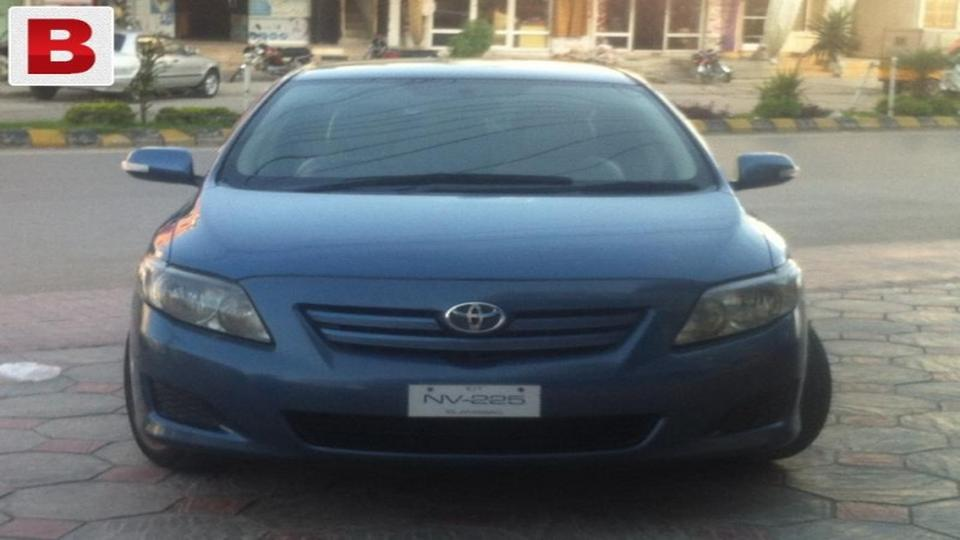NumberPlate: (405, 376, 565, 434)
